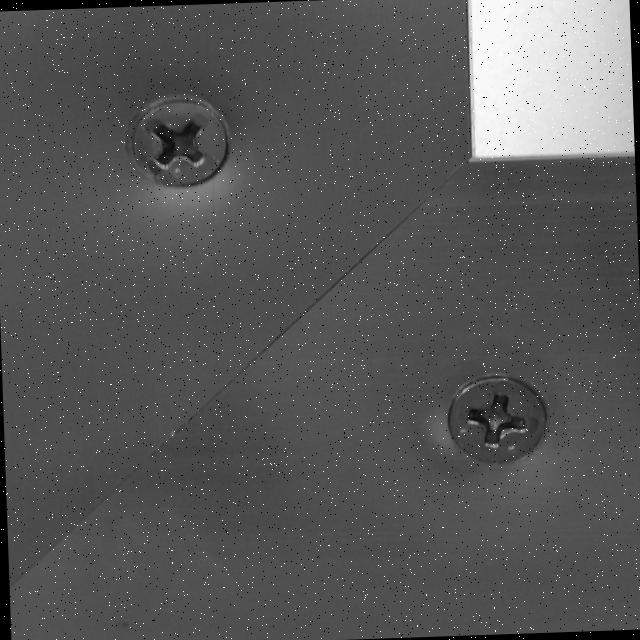Phillips: (436, 369, 552, 474), (109, 99, 231, 185)
